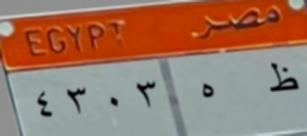0: (100, 91, 125, 113)
3: (133, 77, 160, 112), (64, 83, 89, 117)
4: (34, 87, 56, 122)
Thaa: (265, 57, 302, 98)
haa: (195, 75, 220, 103)
